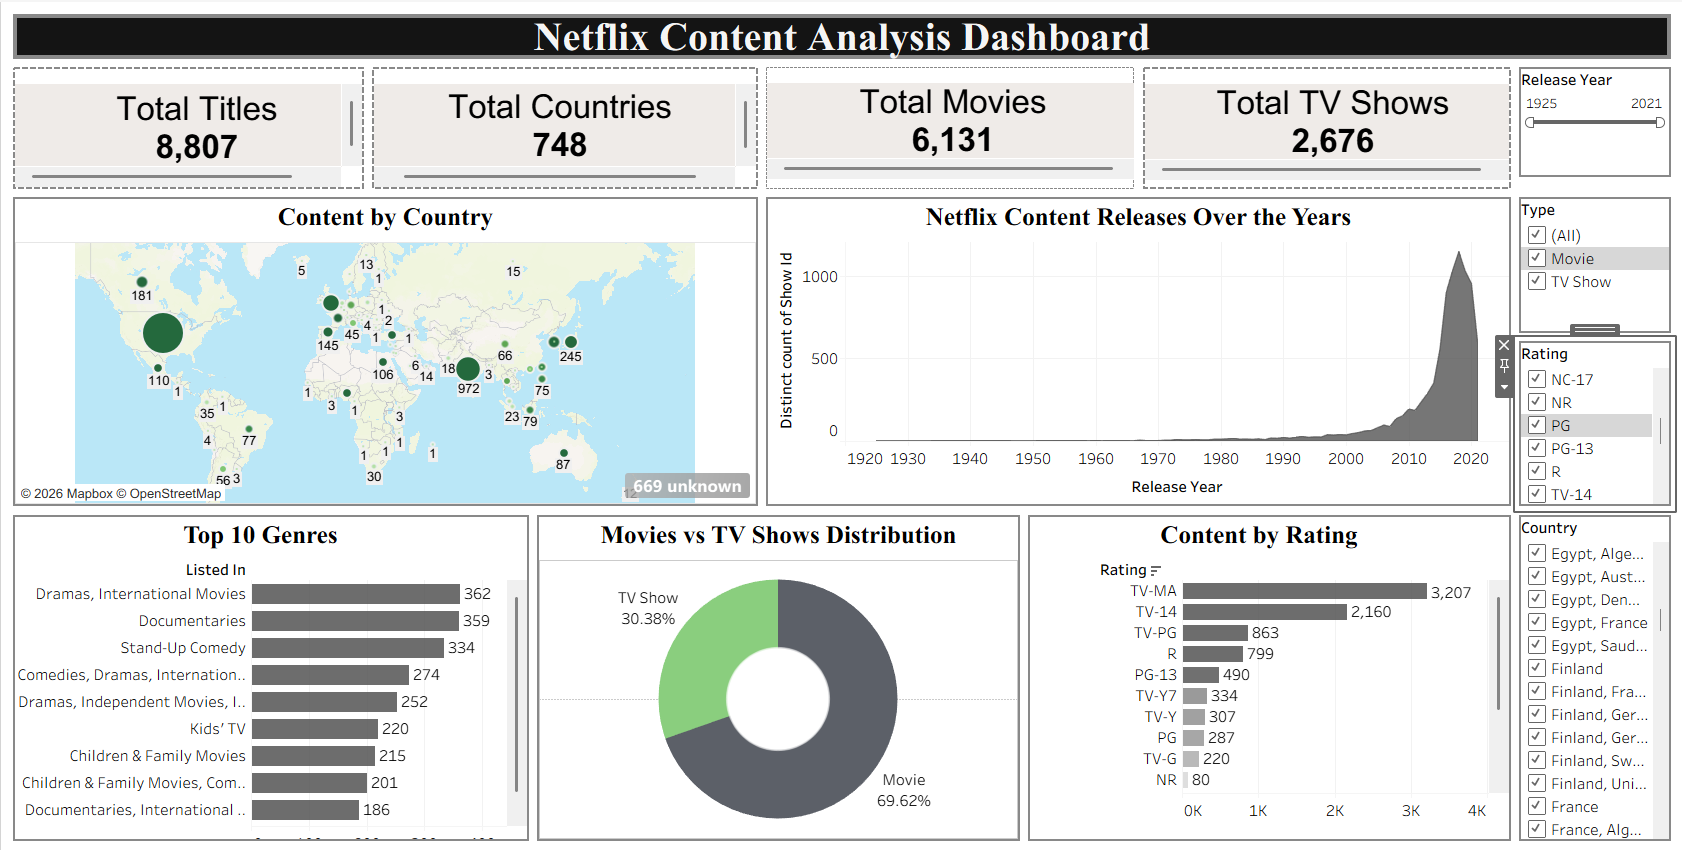

This screenshot's page, from the dashboard's own definition file:
{"tool":"tableau","page":{"name":"Netflix Content Analysis Dashboard","canvas":[1000,1000],"units":"permille","ordinal":0},"visuals":[{"type":"title","box":[4.8,9.4,990.5,62.3]},{"type":"worksheet","title":"Total Titles","mark":"Automatic","box":[4.8,71.7,213.4,153]},{"type":"worksheet","title":"Total Countries","mark":"Automatic","box":[218.2,71.7,234.3,153]},{"type":"worksheet","title":"Total Movies","mark":"Automatic","box":[452.4,71.7,223.8,153]},{"type":"worksheet","title":"Total TV Shows","mark":"Automatic","box":[676.3,71.7,223.8,153]},{"type":"filter","title":"Netflix Content Releases Over the Years","param":"[federated.07jryeq1jguvrg0zxii1918eia81].[none:release_year:qk]","box":[900.1,71.7,95.1,138.7]},{"type":"worksheet","title":"Content by Country","mark":"Automatic","box":[4.8,224.6,447.7,373]},{"type":"worksheet","title":"Netflix Content Releases Over the Years","mark":"Area","rows":["show_id"],"cols":["release_year"],"box":[452.4,224.6,447.7,373]},{"type":"filter","title":"Movies vs TV Shows Distribution","param":"[federated.07jryeq1jguvrg0zxii1918eia81].[none:type:nk]","box":[900.1,224.6,95.1,169.5]},{"type":"filter","title":"Content by Rating","param":"[federated.07jryeq1jguvrg0zxii1918eia81].[none:rating:nk]","box":[900.1,394.1,95.1,203.6]},{"type":"worksheet","title":"Top 10 Genres","mark":"Automatic","rows":["listed_in"],"cols":["show_id"],"box":[4.8,597.7,311.5,392.9]},{"type":"worksheet","title":"Movies vs TV Shows Distribution","mark":"Pie","rows":["Calculation_0763954094174212","Calculation_0763954094174212"],"box":[316.3,597.7,291.9,392.9]},{"type":"worksheet","title":"Content by Rating","mark":"Bar","rows":["rating"],"cols":["show_id"],"box":[608.2,597.7,291.9,392.9]},{"type":"filter","title":"Content by Country","param":"[federated.07jryeq1jguvrg0zxii1918eia81].[attr:country:nk]","box":[900.1,597.7,95.1,392.9]}]}

Visuals, with their boxes on the dashboard's canvas, which has no fixed pixel size, in thousandths of its width and height (x1, y1, x2, y2). These are canvas units, not pixel positions in the 1682x850 screenshot, which may show the page scaled, cropped or inside an application window:
title: 5:9:995:72
"Total Titles" worksheet: 5:72:218:225
"Total Countries" worksheet: 218:72:452:225
"Total Movies" worksheet: 452:72:676:225
"Total TV Shows" worksheet: 676:72:900:225
"Netflix Content Releases Over the Years" filter: 900:72:995:210
"Content by Country" worksheet: 5:225:452:598
"Netflix Content Releases Over the Years" worksheet (Area marks): 452:225:900:598
"Movies vs TV Shows Distribution" filter: 900:225:995:394
"Content by Rating" filter: 900:394:995:598
"Top 10 Genres" worksheet: 5:598:316:991
"Movies vs TV Shows Distribution" worksheet (Pie marks): 316:598:608:991
"Content by Rating" worksheet (Bar marks): 608:598:900:991
"Content by Country" filter: 900:598:995:991
